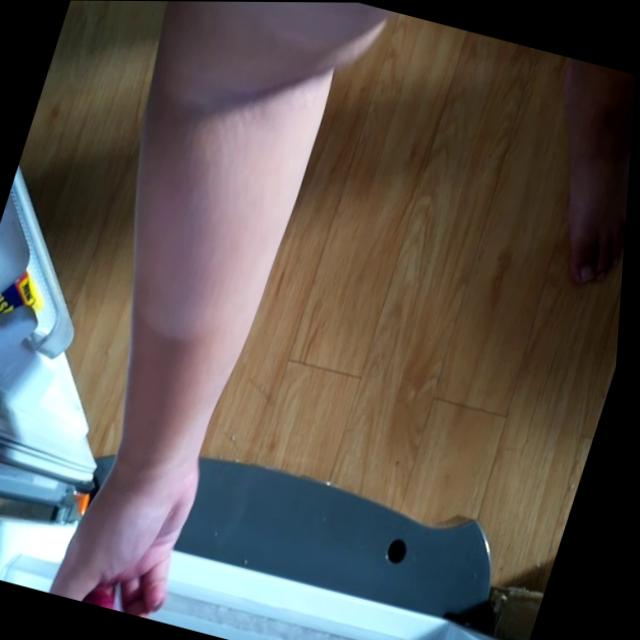onion: (90, 572, 129, 608)
